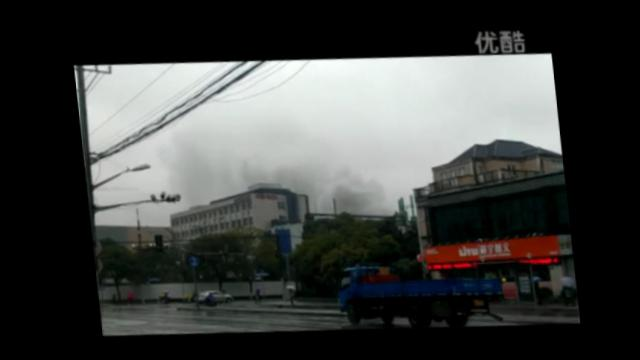smoke: (322, 159, 381, 211)
